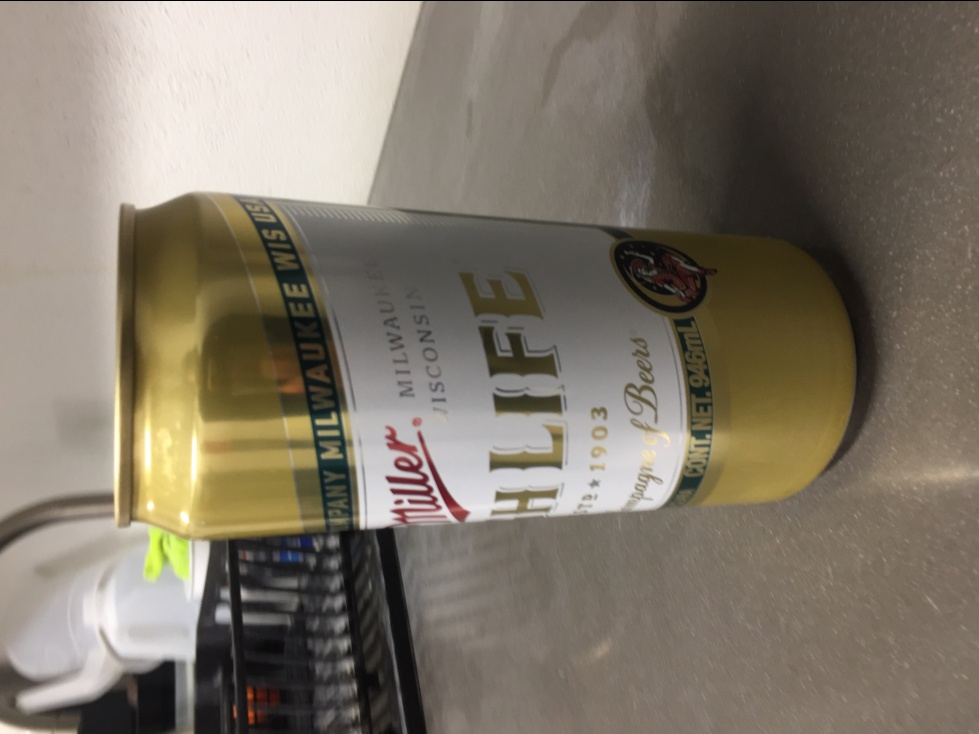miller: (104, 183, 871, 541)
